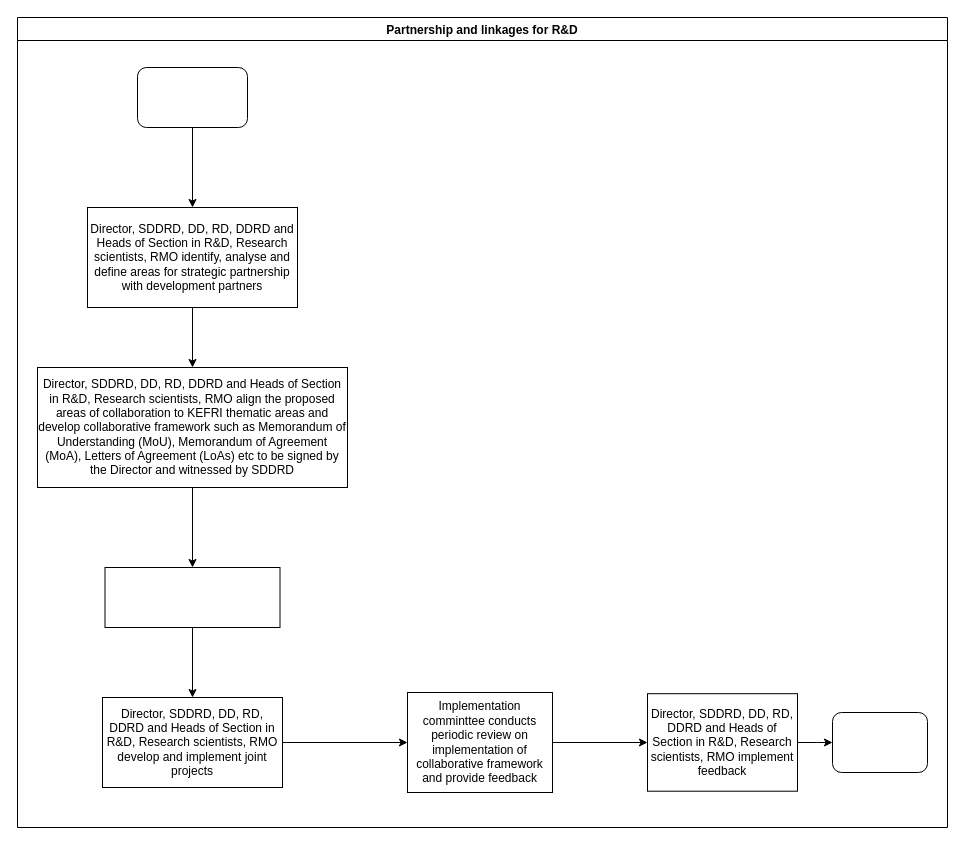
This 965x845 diagram has some shape labels left out. Here are the shapes that lost their labels. From the top down, the centre of each, then its label:
At (x=192, y=97): "Start".
At (x=192, y=597): "Director/SDDRD sets implementation committee of signed frameworks".
At (x=880, y=742): "End".
